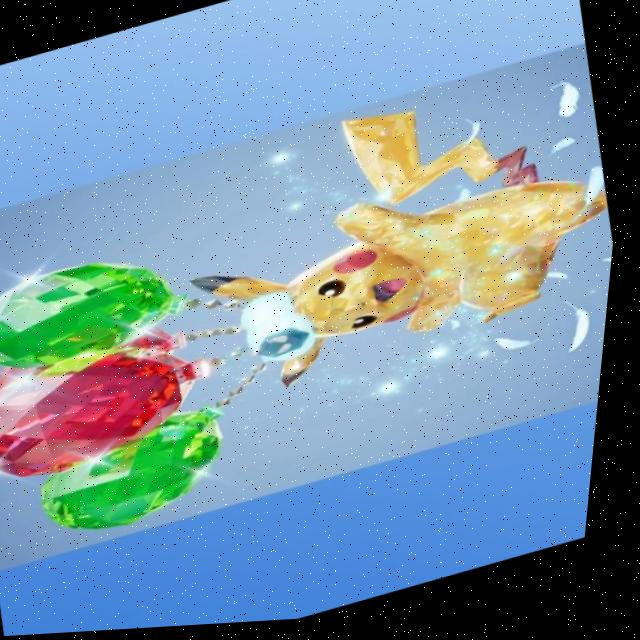Pikachu: (201, 85, 631, 421)
